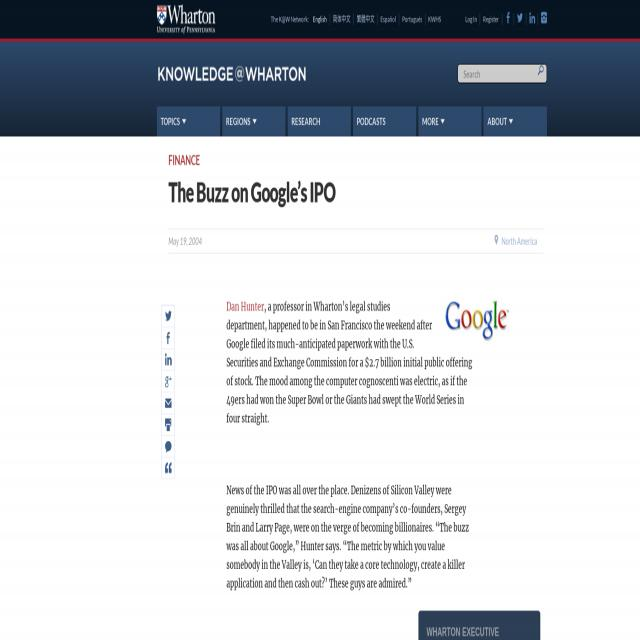button: (441, 297, 514, 344), (157, 0, 218, 37), (222, 107, 286, 136), (418, 107, 482, 136), (157, 107, 220, 136), (484, 107, 546, 136), (288, 107, 350, 136), (354, 107, 416, 136), (162, 306, 174, 328), (162, 349, 174, 371), (162, 436, 174, 458), (162, 328, 174, 349), (162, 371, 174, 392), (162, 393, 174, 414), (162, 415, 174, 436), (162, 458, 174, 479), (536, 64, 546, 79)
field: (457, 64, 547, 83)
